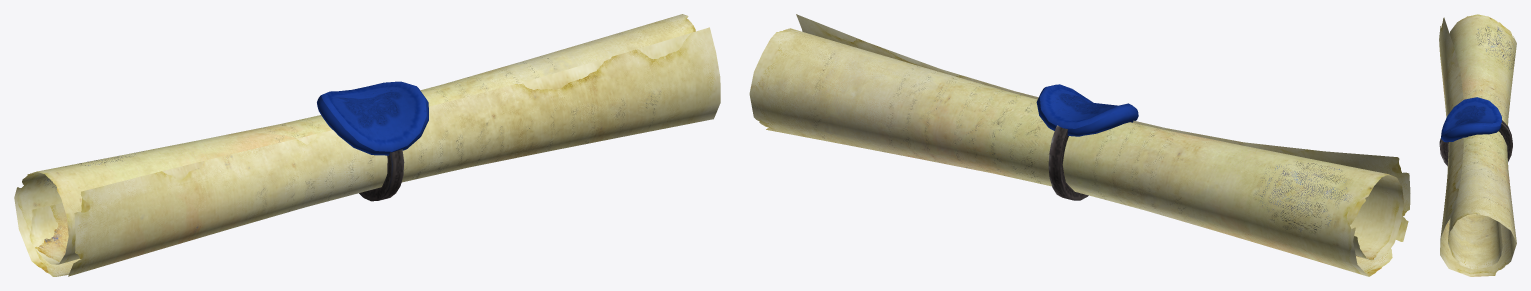
Rendered from scroll_enchant.glb.
3 renders of one model, left to right at view 1: azimuth 30°, elevation 25°; view 2: azimuth 150°, elevation 25°; view 3: azimuth 270°, elevation 25°, orthographic. The views are drawn at different scales.
Parts seen in each view (by area): view 1: Scroll_LP; view 2: Scroll_LP; view 3: Scroll_LP.
Part boxes in pixels (x1,y1,x2,y2): Scroll_LP: (14, 14, 720, 276); Scroll_LP: (749, 14, 1410, 276); Scroll_LP: (1439, 14, 1516, 276).
Bounding box in the file's own units: 0.5 × 0.0786 × 0.0823.
Materials: 1 (1 with a texture image).
